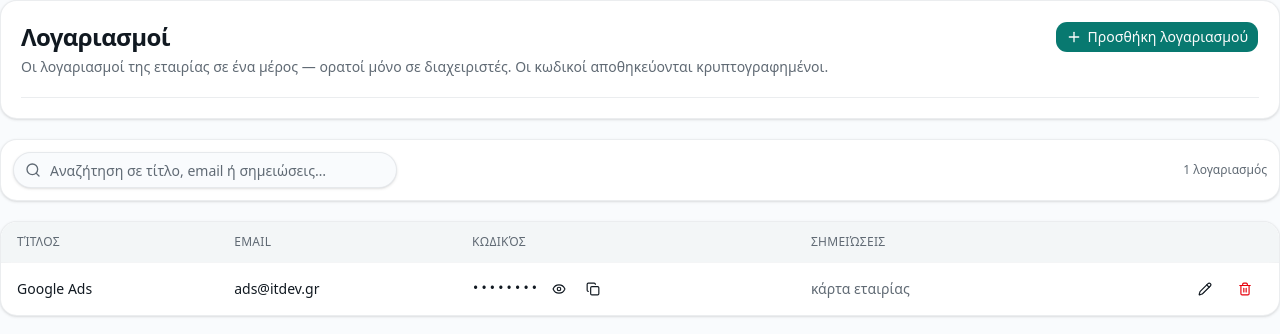
Test case: AccountsPage › hides the password again on the second click, without re-fetching
This screenshot has width=1280, height=334.
Click the button named "Εμφάνιση κωδικού για Google Ads".
click(559, 289)  # box [545,275,573,303]
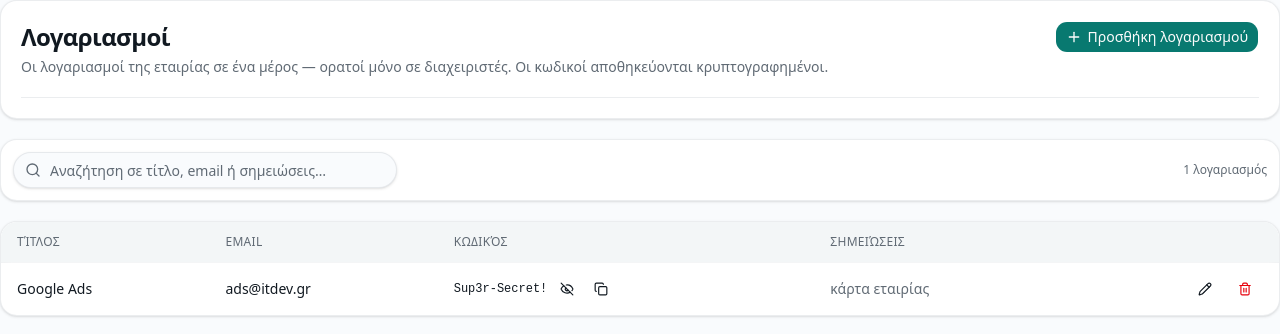
Expected: the text "Sup3r-Secret!" is shown, [454,281,547,297]
Click the button named "Απόκρυψη κωδικού για Google Ads".
click(567, 289)  # box [553,275,581,303]
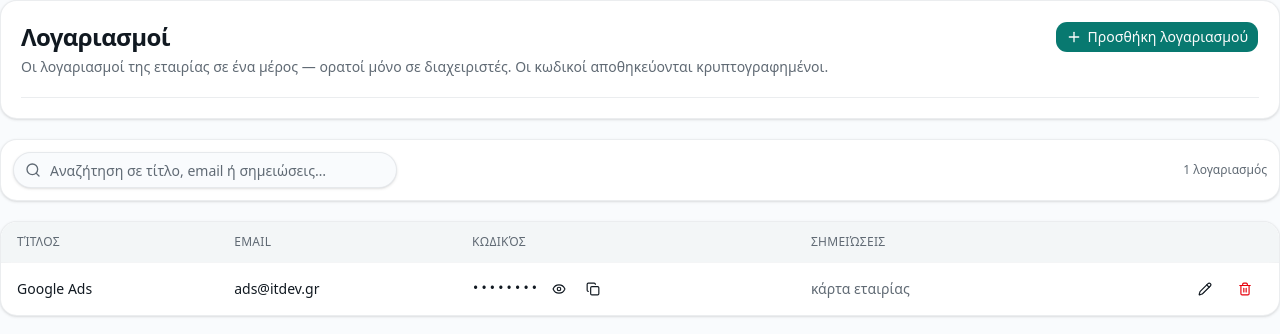
Expected: the text "Sup3r-Secret!" is gone
Expected: the text "••••••••" is shown, [472,281,539,297]
